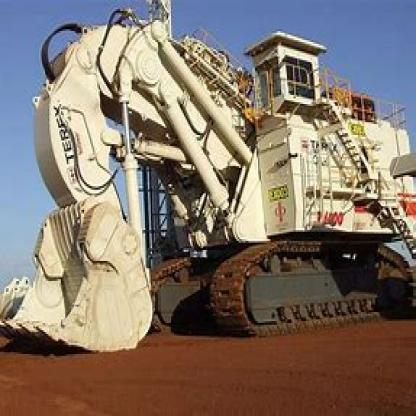excavator: (6, 9, 414, 367)
